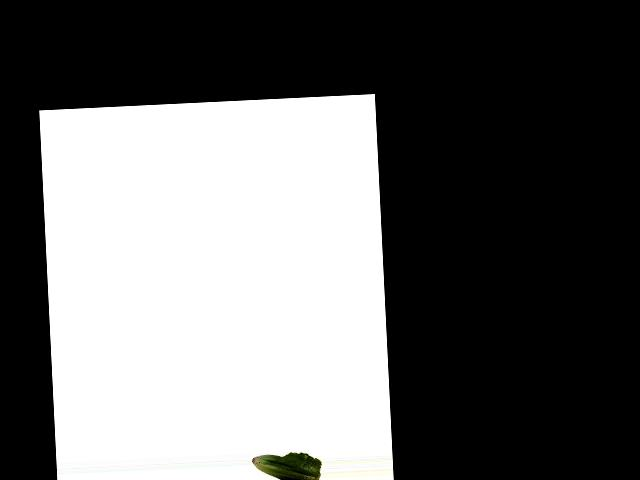lettuce: (250, 447, 323, 480)
